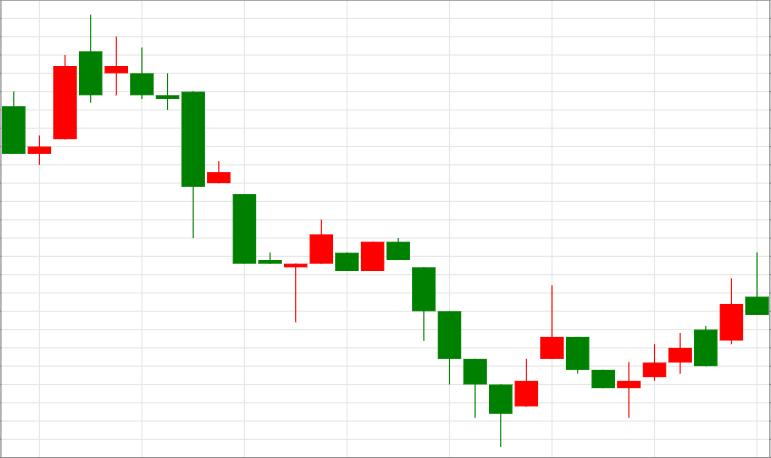hammer_rise: (361, 239, 513, 446)
